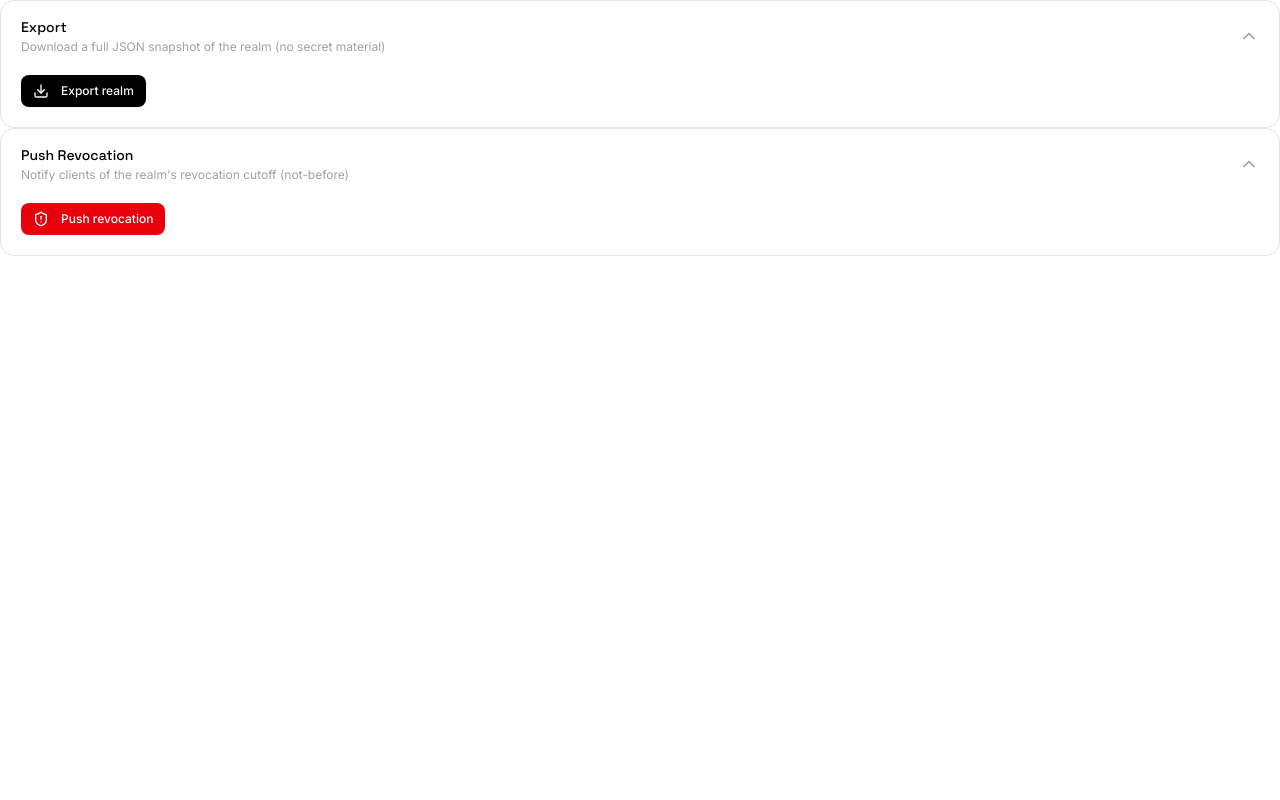
RealmActionsSection › opens a modal with the pretty-printed export document
The width and height of the screenshot is (1280, 800).
Click the button "Export realm" at (83, 91), box [21,75,146,107]
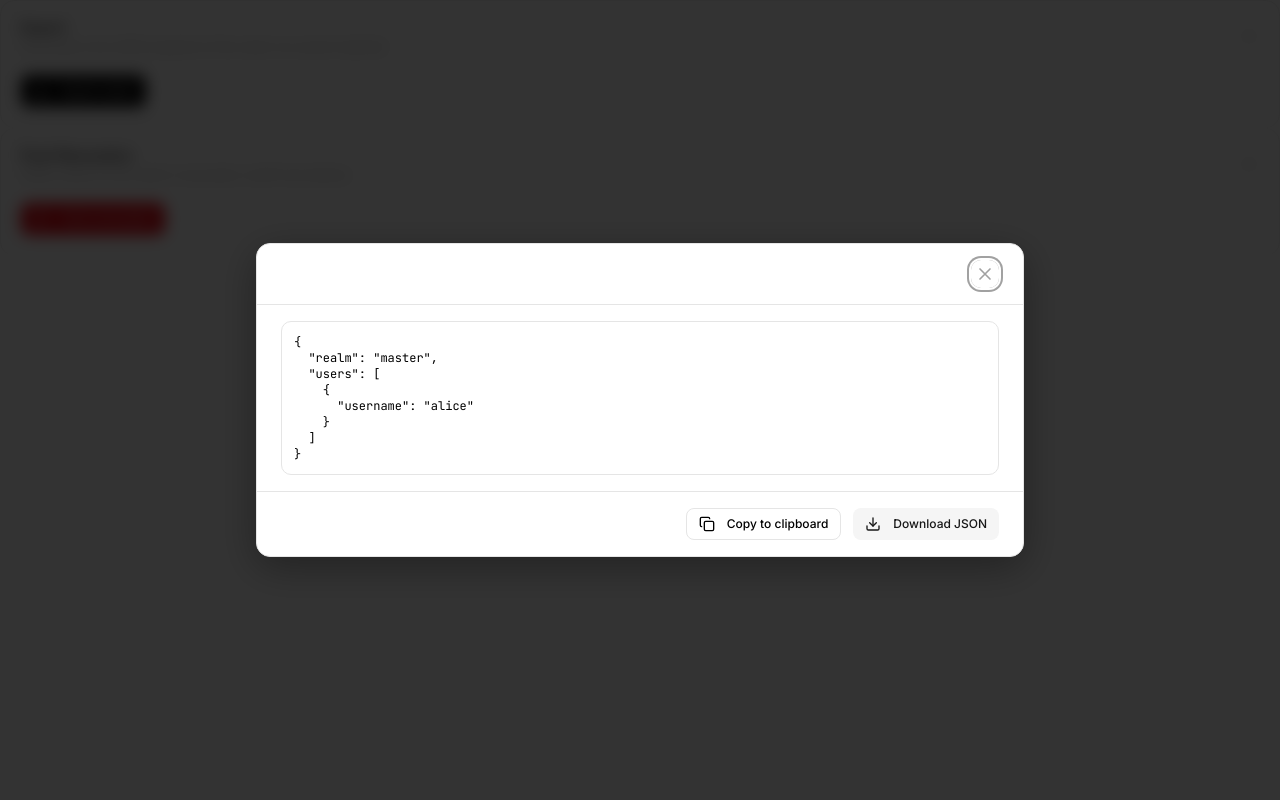
Now the text "{ \"realm\": \"master\", \"users\": [ { \"username\": \"alice\" } ] }" shows "\"realm\": \"master\"", box [294,334,474,462]
Now the text "{ \"realm\": \"master\", \"users\": [ { \"username\": \"alice\" } ] }" shows "\"username\": \"alice\"", box [294,334,474,462]
Now the button "Copy to clipboard" is shown, box [686,508,841,540]
